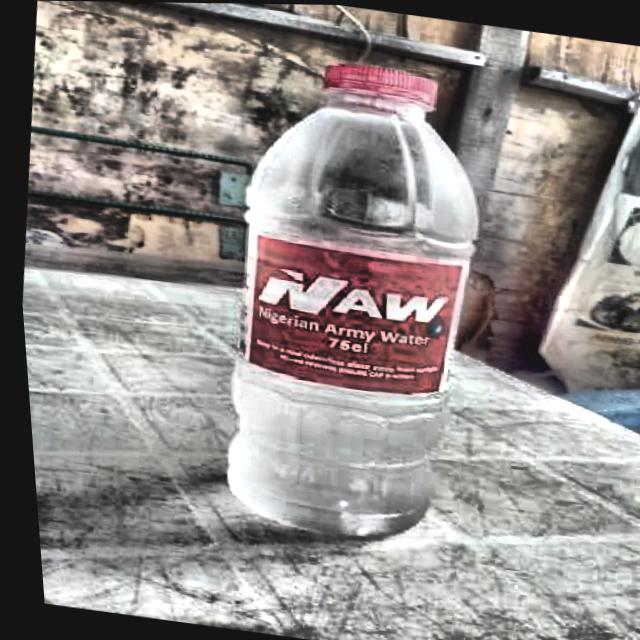Bottles: (167, 18, 529, 579)
